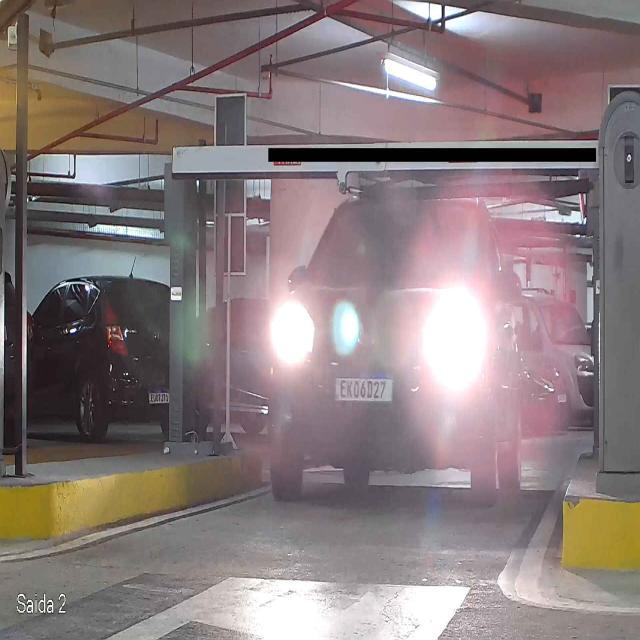mercosul_plate: (334, 375, 394, 403)
